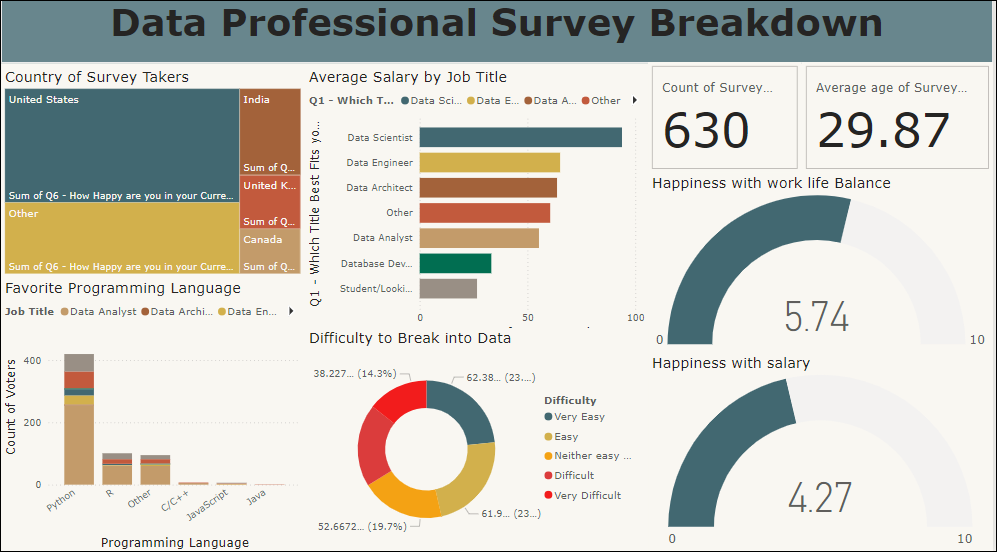

The dashboard page shown, as its layout file describes it:
{"tool":"powerbi","page":{"name":"Page 1","canvas":[1280,720],"ordinal":0},"visuals":[{"type":"textbox","box":[0,0,1280,87.7],"z":0},{"type":"cardVisual","fields":{"Data":["Count(Data Professional Survey.Unique ID)"]},"box":[835,86.7,198.3,143.3],"z":1000},{"type":"cardVisual","fields":{"Data":["Avg(Data Professional Survey.Q10 - Current Age)"]},"box":[1033.3,86.7,246.7,143.3],"z":2000},{"type":"barChart","title":"Average Salary by Job Title","fields":{"Category":["Data Professional Survey.Q1 - Which Title Best Fits your Current Role?.1"],"Y":["Avg(Data Professional Survey.Average Salary)"],"Series":["Data Professional Survey.Q1 - Which Title Best Fits your Current Role?.1"]},"box":[391.7,93.3,443.3,356.7],"z":3000},{"type":"columnChart","title":"Favorite Programming Language","fields":{"Category":["Data Professional Survey.Q5 - Favorite Programming Language.1"],"Y":["CountNonNull(Data Professional Survey.Unique ID)"],"Series":["Data Professional Survey.Q1 - Which Title Best Fits your Current Role?.1"]},"box":[0,365,391.7,355],"z":4000},{"type":"treemap","title":"Country of Survey Takers","fields":{"Group":["Data Professional Survey.Q11 - Which Country do you live in?.1"],"Values":["Count(Data Professional Survey.Q11 - Which Country do you live in?.1)","Sum(Data Professional Survey.Q6 - How Happy are you in your Current Position with the following? (Salary))"]},"box":[0,93.3,391.7,271.7],"z":5000},{"type":"gauge","title":"Happiness with work life Balance","fields":{"Y":["Avg(Data Professional Survey.Q6 - How Happy are you in your Current Position with the following? (Work/Life Balance))"],"MinValue":["Min(Data Professional Survey.Q6 - How Happy are you in your Current Position with the following? (Work/Life Balance))"],"MaxValue":["Max(Data Professional Survey.Q6 - How Happy are you in your Current Position with the following? (Work/Life Balance))"]},"box":[835,230,445,231.7],"z":6000},{"type":"gauge","title":"Happiness with salary","fields":{"Y":["Avg(Data Professional Survey.Q6 - How Happy are you in your Current Position with the following? (Salary))"],"MinValue":["Min(Data Professional Survey.Q6 - How Happy are you in your Current Position with the following? (Salary))"],"MaxValue":["Max(Data Professional Survey.Q6 - How Happy are you in your Current Position with the following? (Salary))"]},"box":[835,461.7,445,258.3],"z":7000},{"type":"donutChart","title":"Difficulty to Break into Data","fields":{"Category":["Data Professional Survey.Q7 - How difficult was it for you to break into Data?"],"Y":["Avg(Data Professional Survey.Average Salary)"]},"box":[391.7,430,443.3,290],"z":8000}]}

Visuals, with their boxes in screenshot pixels (x1, y1, x2, y2), scaled from the page's 1280x720 canvas onto the 997x552 screenshot:
textbox: {"left": 0, "top": 0, "right": 996, "bottom": 67}
cardVisual - Count(Data Professional Survey.Unique ID): {"left": 650, "top": 66, "right": 805, "bottom": 176}
cardVisual - Avg(Data Professional Survey.Q10 - Current Age): {"left": 805, "top": 66, "right": 996, "bottom": 176}
"Average Salary by Job Title" barChart: {"left": 305, "top": 72, "right": 650, "bottom": 345}
"Favorite Programming Language" columnChart: {"left": 0, "top": 280, "right": 305, "bottom": 551}
"Country of Survey Takers" treemap: {"left": 0, "top": 72, "right": 305, "bottom": 280}
"Happiness with work life Balance" gauge: {"left": 650, "top": 176, "right": 996, "bottom": 354}
"Happiness with salary" gauge: {"left": 650, "top": 354, "right": 996, "bottom": 551}
"Difficulty to Break into Data" donutChart: {"left": 305, "top": 330, "right": 650, "bottom": 551}
